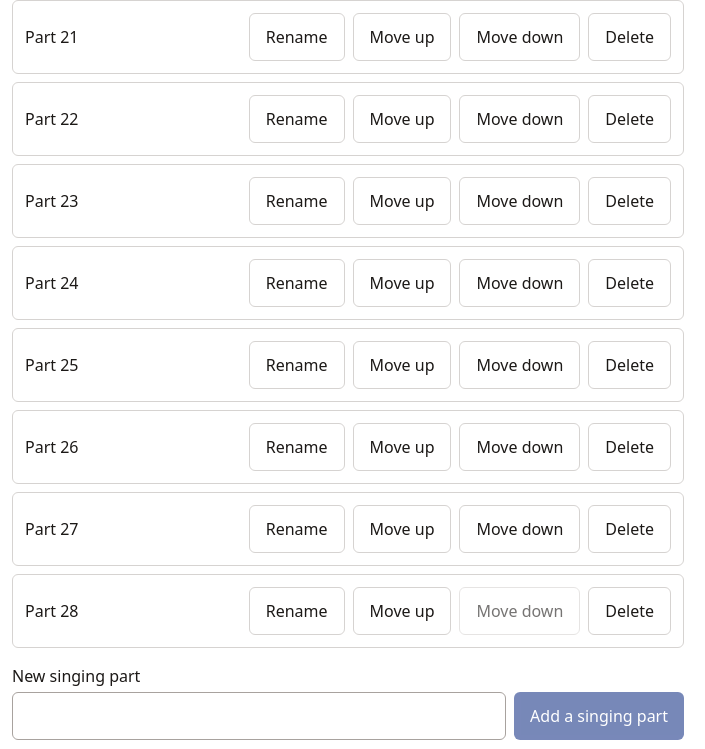
NameListPage › disables adding at the limit and names the limit when the server says so
The width and height of the screenshot is (705, 749).
(page scrolled)
Type "Satu" into the field labelled "New singing part" at (259, 716), box [12,692,506,740]
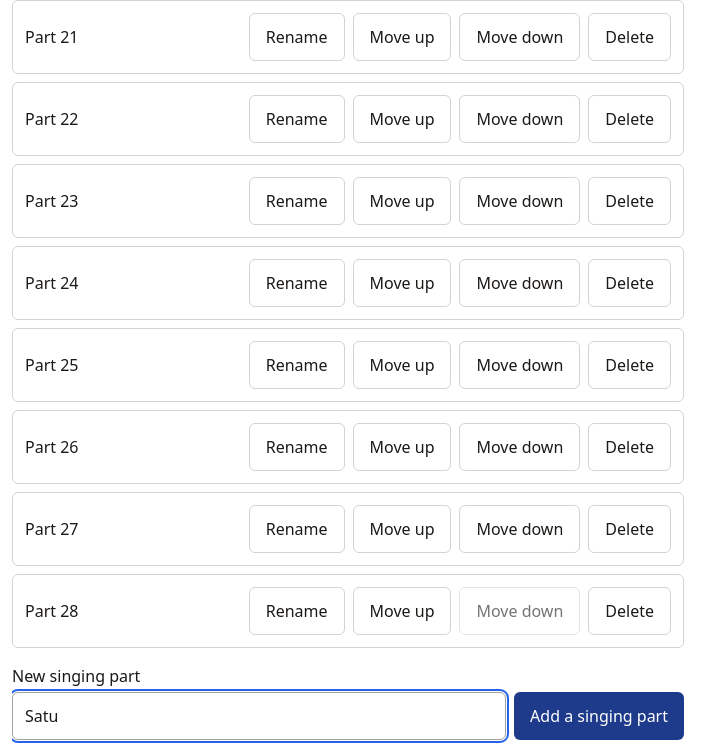
Click the button "Add a singing part" at (599, 716), box [514,692,684,740]
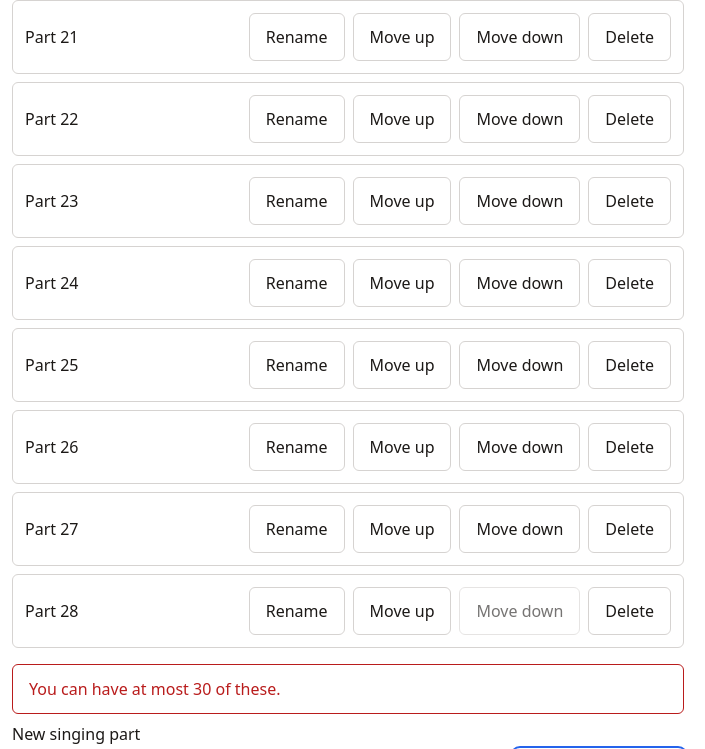
Check: the text "You can have at most 30 of these." is shown, box [29,678,280,700]
